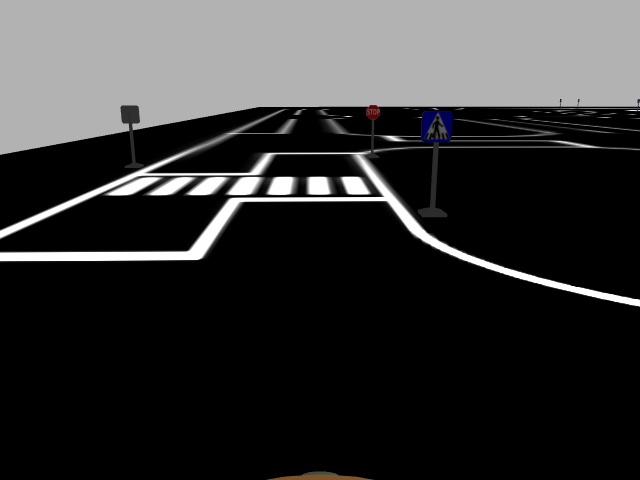crosswalk: (420, 108, 454, 145)
stop: (364, 103, 381, 121)
